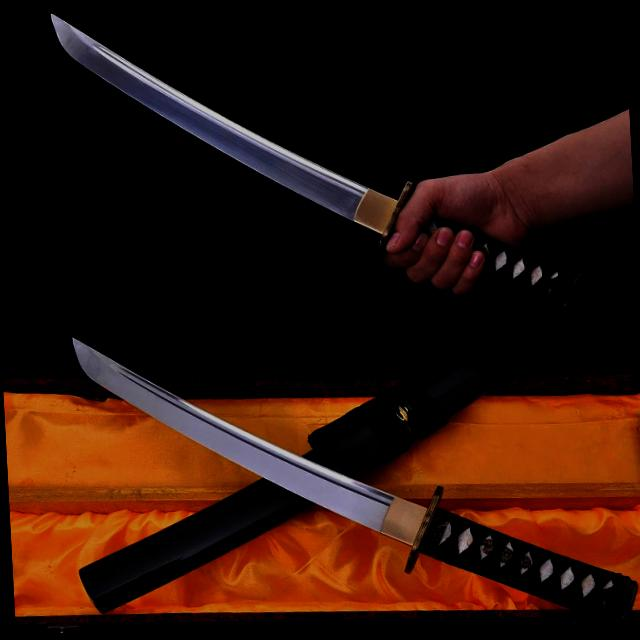short sword: (55, 299, 640, 640), (37, 0, 639, 322)
